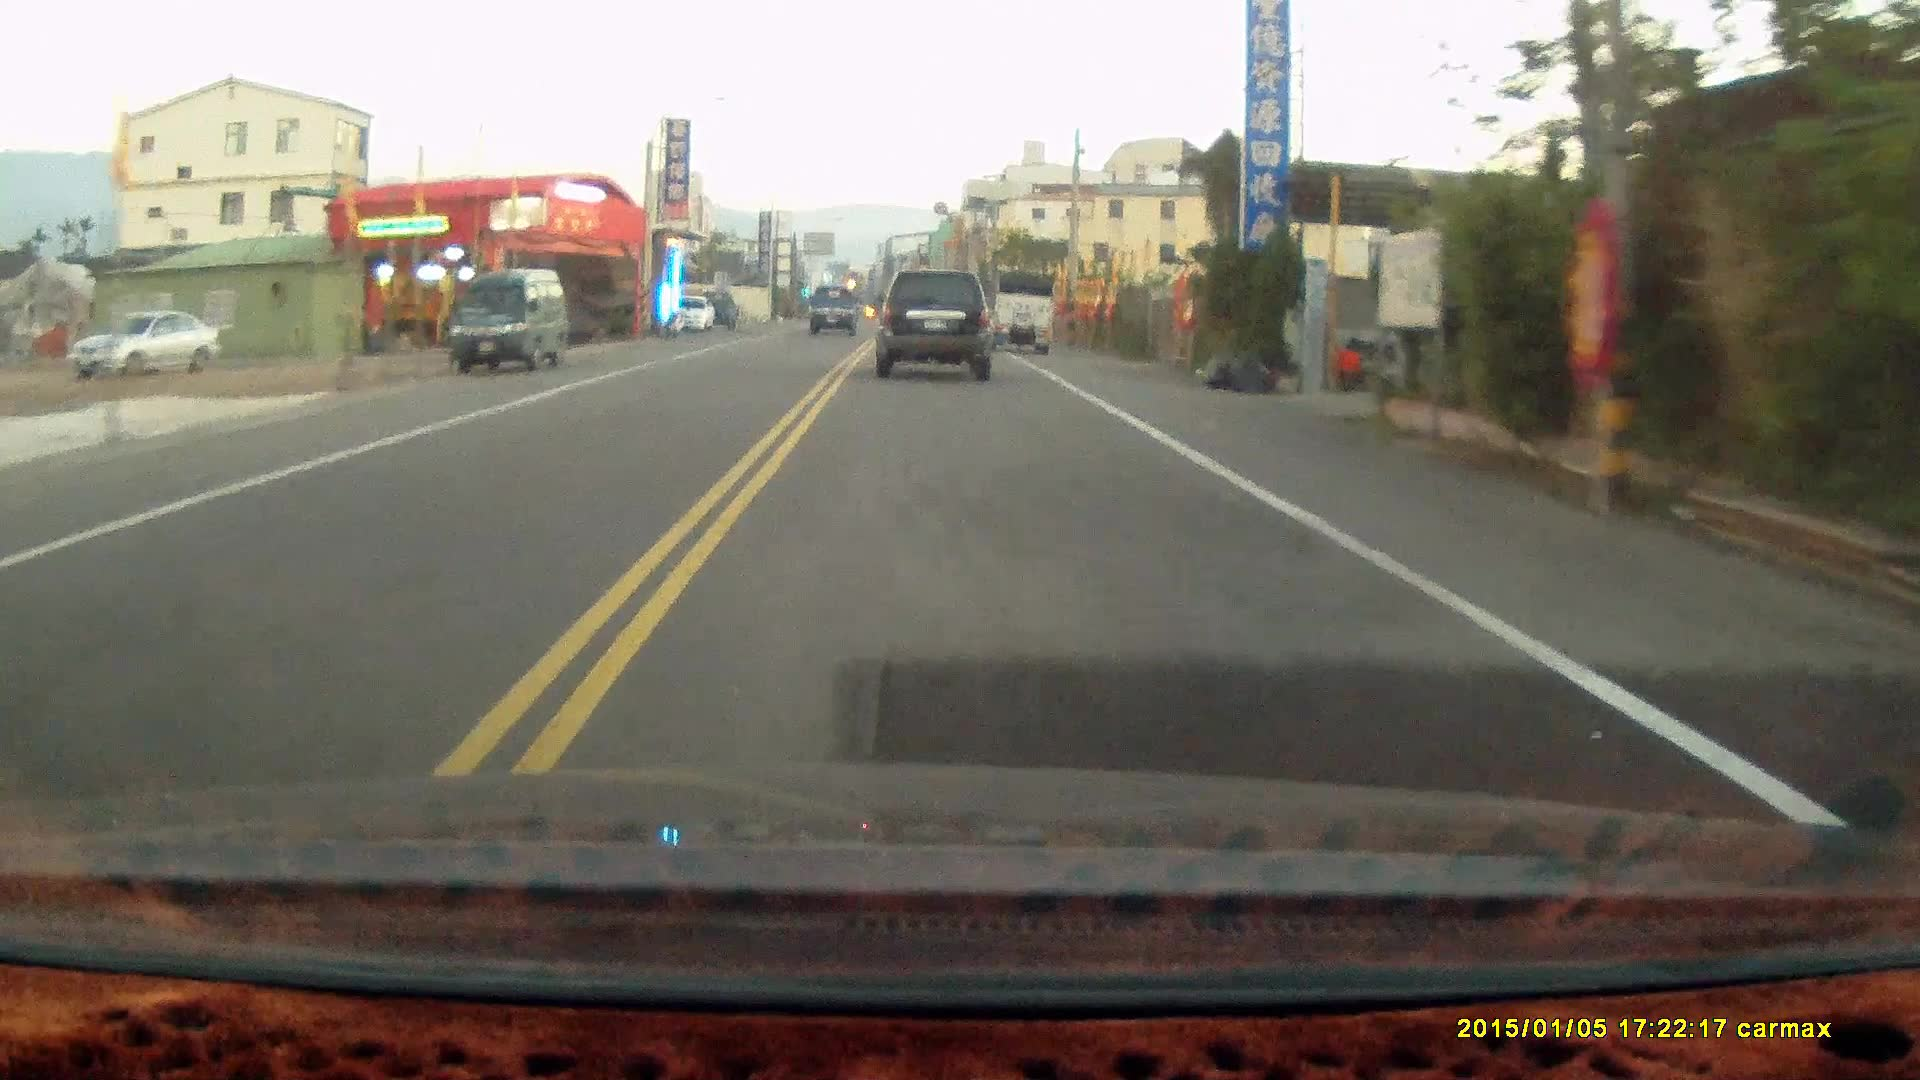vehicle: (869, 266, 1004, 386), (444, 266, 564, 378), (62, 309, 224, 382), (978, 272, 1058, 357), (808, 284, 860, 336)
